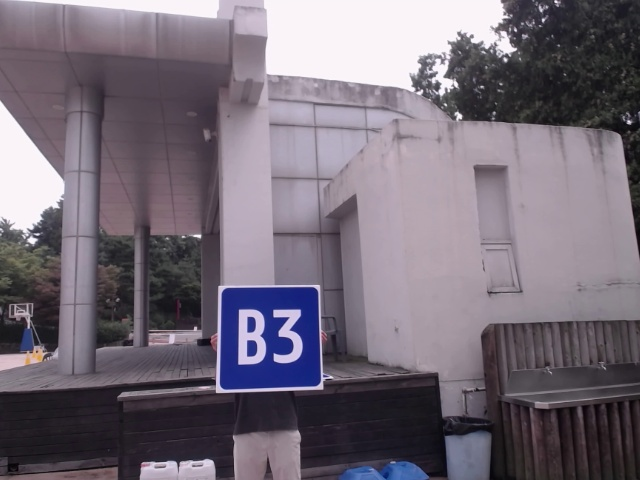delivery_b3: (220, 287, 322, 387)
